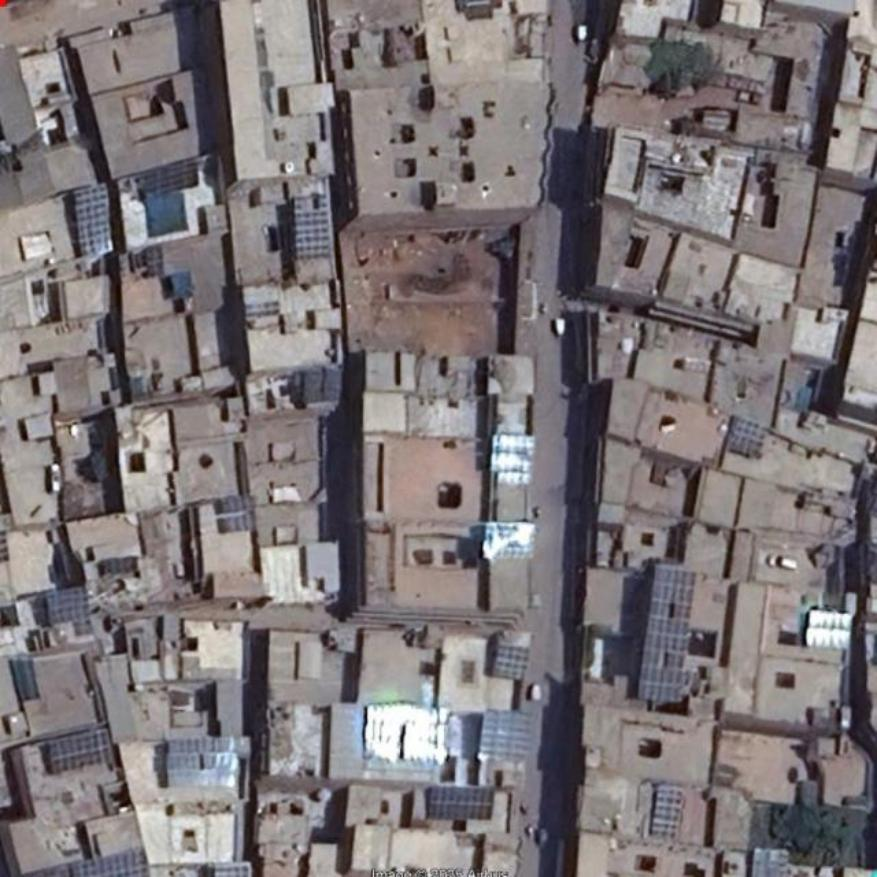Solarpanel: (636, 563, 695, 706), (169, 736, 237, 788), (77, 186, 116, 259), (51, 727, 109, 773), (481, 710, 532, 762), (292, 191, 332, 254), (427, 786, 494, 820), (493, 433, 533, 485), (651, 789, 683, 843), (46, 585, 88, 626), (730, 414, 767, 460), (71, 851, 137, 876), (489, 524, 535, 558), (807, 613, 851, 648), (491, 646, 528, 681), (217, 514, 255, 536), (219, 496, 248, 513)
